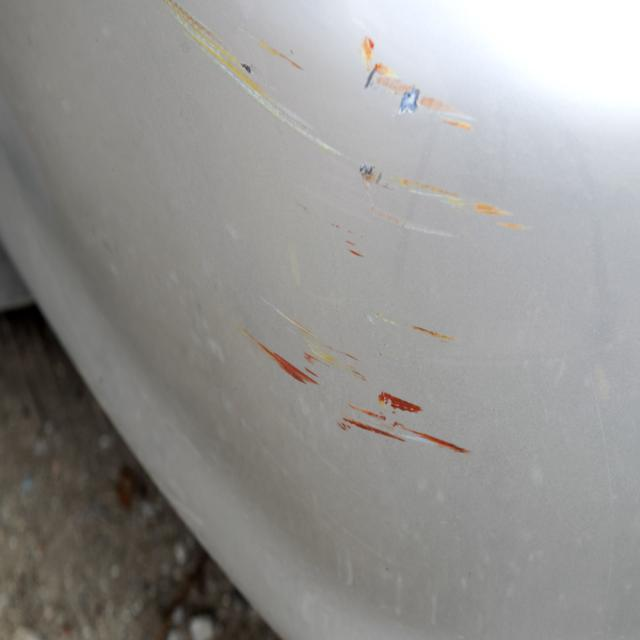scratch: (165, 0, 542, 463)
